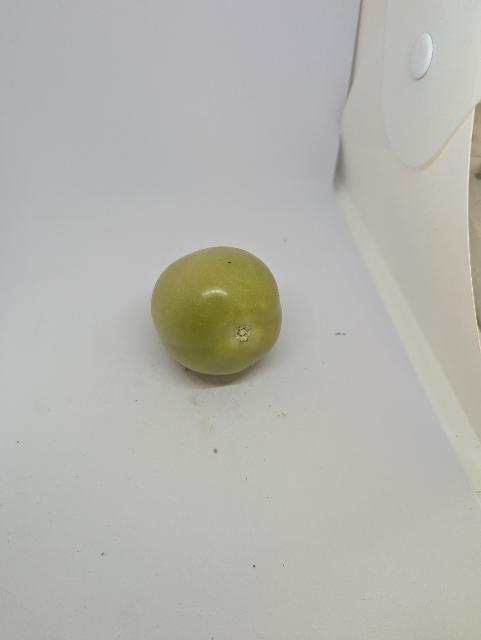green: (150, 244, 283, 378)
